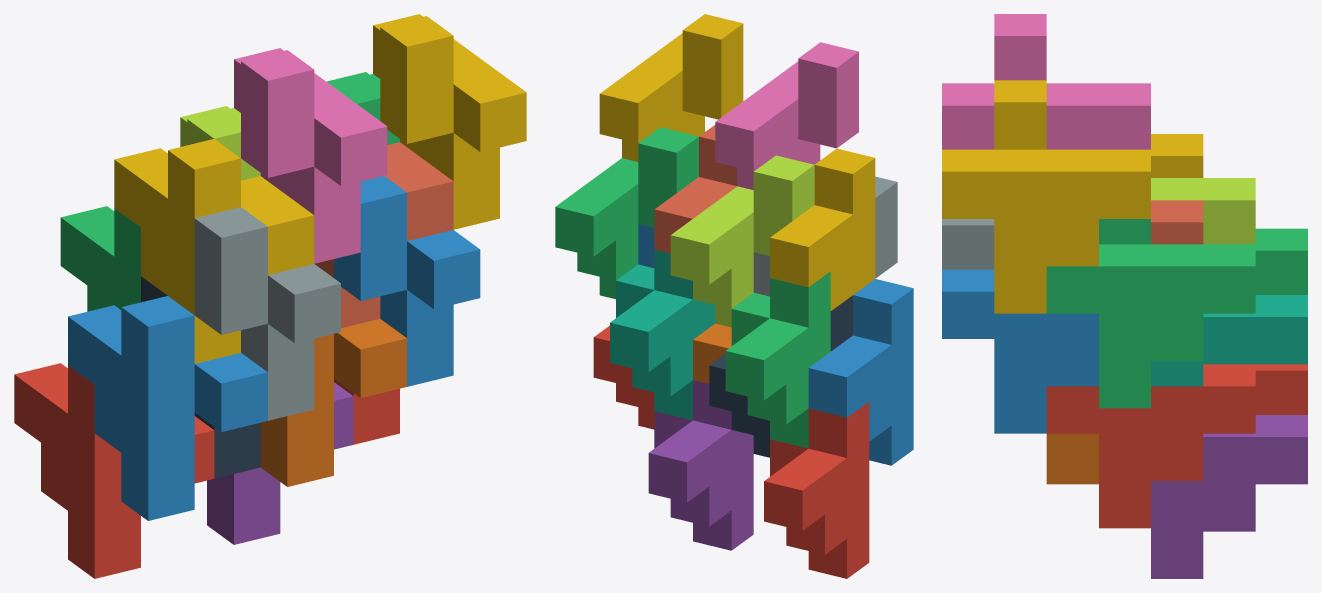
File: tiling.obj
The picture shows the model from 3 angles, left to right: view 1: azimuth 30°, elevation 25°; view 2: azimuth 150°, elevation 25°; view 3: azimuth 270°, elevation 25°; orthographic projection. The views are drawn at different scales.
Parts seen in each view (by area): view 1: copy_1_domain_2, copy_2_domain_4, copy_2_domain_8, copy_1_domain_4, copy_2_domain_2, copy_1_domain_1, copy_2_domain_6, copy_1_domain_6, copy_1_domain_3, copy_1_domain_5, copy_1_domain_8, copy_2_domain_1 (+3 smaller); view 2: copy_1_domain_1, copy_1_domain_2, copy_1_domain_3, copy_2_domain_4, copy_2_domain_8, copy_1_domain_5, copy_2_domain_3, copy_2_domain_7, copy_1_domain_4, copy_1_domain_7, copy_1_domain_8, copy_2_domain_1 (+4 smaller); view 3: copy_2_domain_8, copy_2_domain_7, copy_2_domain_5, copy_2_domain_4, copy_1_domain_5, copy_2_domain_6, copy_1_domain_7, copy_2_domain_3, copy_1_domain_3, copy_1_domain_6, copy_1_domain_1, copy_2_domain_2 (+2 smaller).
Boxes of the visible parts, x1,y1,x2,y2 form: copy_1_domain_2: [68, 296, 267, 520]; copy_2_domain_4: [234, 48, 387, 263]; copy_2_domain_8: [373, 14, 526, 229]; copy_1_domain_4: [114, 139, 314, 363]; copy_2_domain_2: [194, 207, 340, 420]; copy_1_domain_1: [14, 363, 214, 578]; copy_2_domain_6: [334, 176, 480, 386]; copy_1_domain_6: [260, 319, 406, 486]; copy_1_domain_3: [60, 206, 140, 311]; copy_1_domain_5: [207, 382, 353, 544]; copy_1_domain_8: [314, 142, 453, 328]; copy_2_domain_1: [141, 276, 260, 478]; copy_1_domain_1: [764, 402, 869, 578]; copy_1_domain_2: [808, 279, 913, 465]; copy_1_domain_3: [725, 271, 830, 448]; copy_2_domain_4: [715, 42, 858, 189]; copy_2_domain_8: [599, 14, 743, 161]; copy_1_domain_5: [648, 380, 753, 550]; copy_2_domain_3: [670, 155, 814, 327]; copy_2_domain_7: [555, 127, 698, 299]; copy_1_domain_4: [770, 148, 875, 310]; copy_1_domain_7: [610, 250, 715, 420]; copy_1_domain_8: [654, 125, 737, 253]; copy_2_domain_1: [709, 295, 852, 457]; copy_2_domain_8: [942, 80, 1150, 313]; copy_2_domain_7: [1046, 219, 1255, 408]; copy_2_domain_5: [1046, 364, 1255, 528]; copy_2_domain_4: [942, 14, 1150, 149]; copy_1_domain_5: [1151, 415, 1307, 578]; copy_2_domain_6: [942, 269, 1098, 433]; copy_1_domain_7: [1151, 295, 1307, 386]; copy_2_domain_3: [1151, 178, 1255, 244]; copy_1_domain_3: [1255, 228, 1307, 294]; copy_1_domain_6: [1046, 433, 1098, 484]; copy_1_domain_1: [1255, 364, 1307, 414]; copy_2_domain_2: [942, 219, 994, 269].
Bounding box in the file's own units: 7 × 11 × 7.
